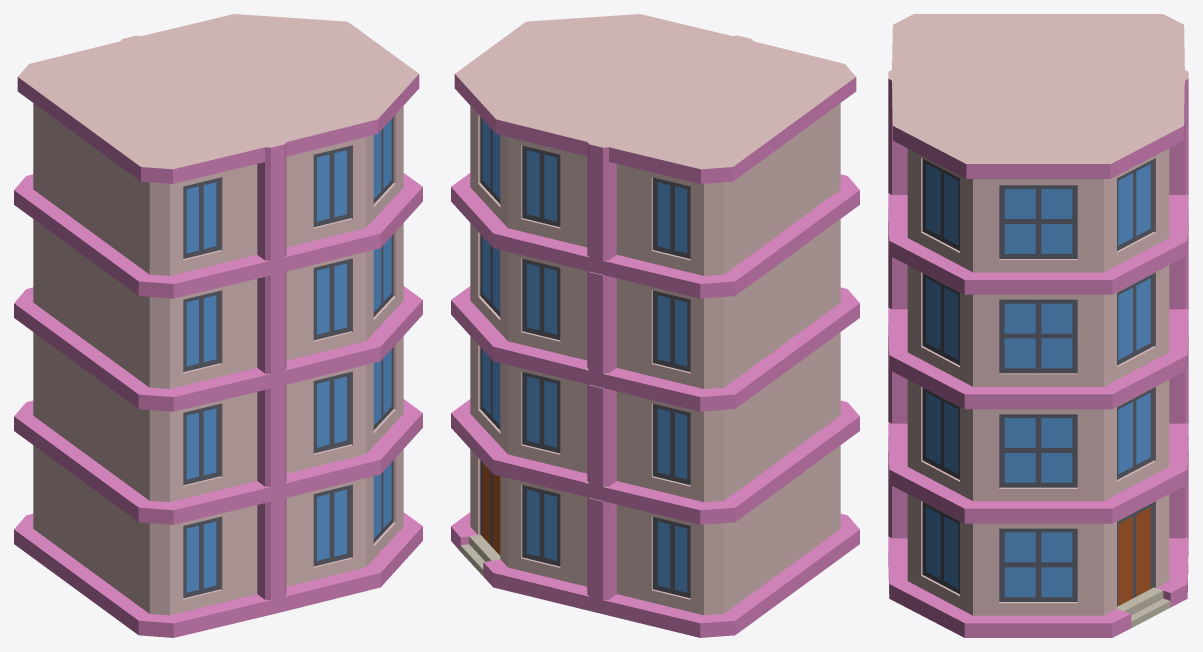
3 renders of one model, left to right at view 1: azimuth 30°, elevation 25°; view 2: azimuth 150°, elevation 25°; view 3: azimuth 270°, elevation 25°, orthographic.
Visible parts, largest first — view 1: Predio 10.003; view 2: Predio 10.003; view 3: Predio 10.003.
Boxes of the visible parts, x1,y1,x2,y2 form: Predio 10.003: (14, 14, 422, 637); Predio 10.003: (451, 14, 859, 637); Predio 10.003: (888, 14, 1188, 637).
Size of the model in its own units: 6649 by 9571 by 5520.
